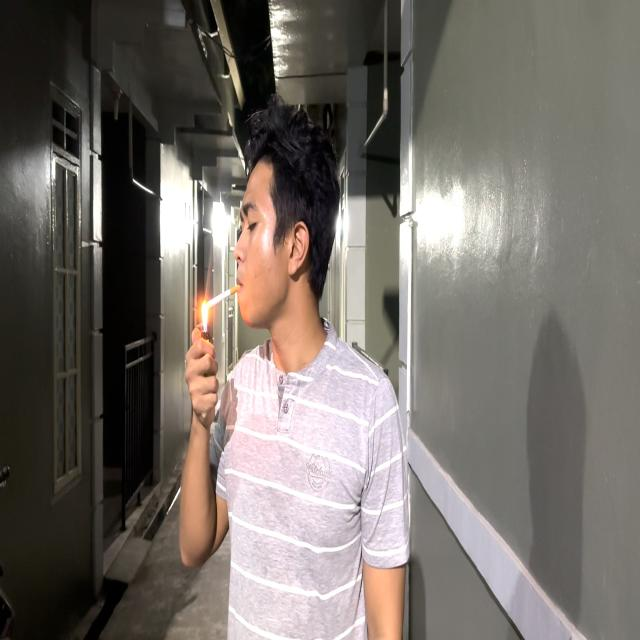cigarette: (205, 283, 241, 313)
smoking: (179, 108, 340, 573)
